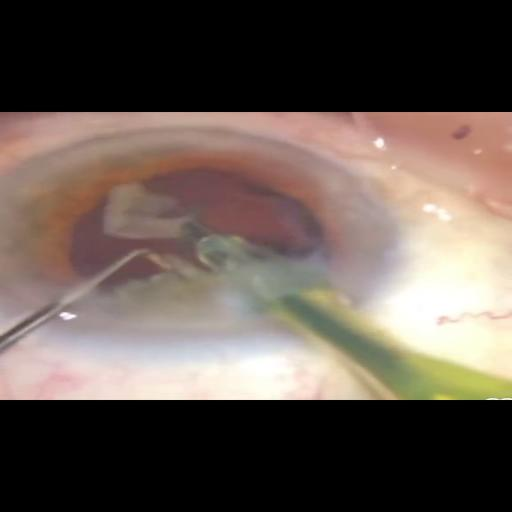catarata: (66, 171, 311, 321)
cornea: (6, 134, 396, 349)
pupil: (22, 152, 343, 319)
